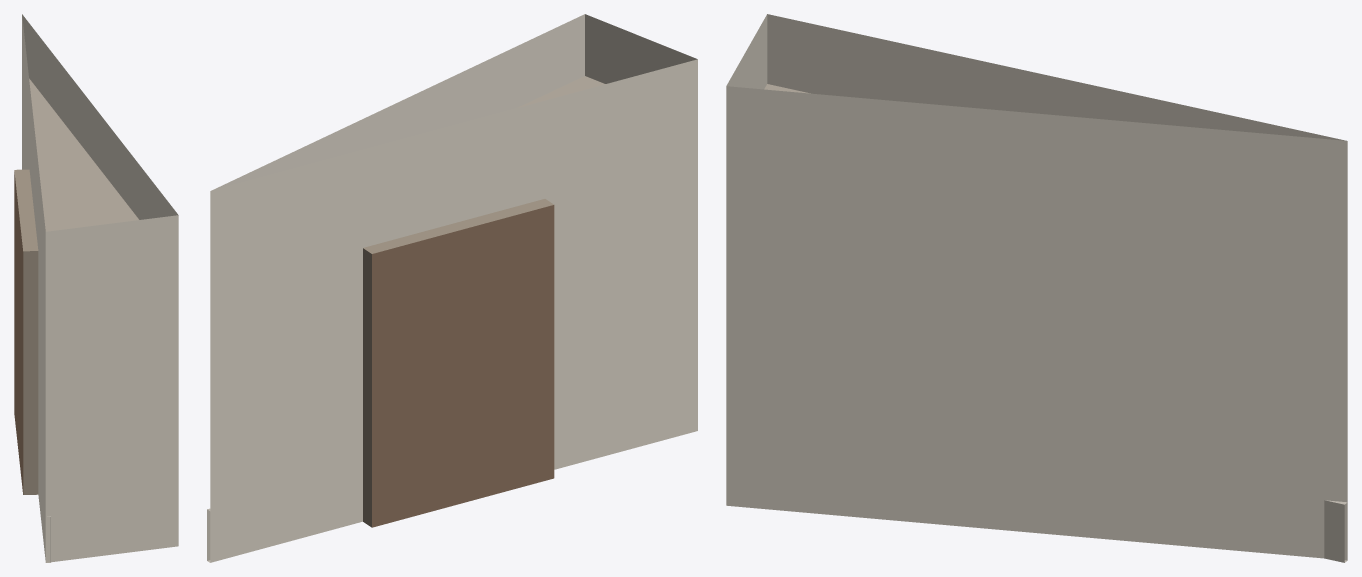
3 renders of one model, left to right at view 1: azimuth 30°, elevation 25°; view 2: azimuth 150°, elevation 25°; view 3: azimuth 270°, elevation 25°, orthographic. The views are drawn at different scales.
Visible parts, largest first — view 1: W-32#2; view 2: W-32#2; view 3: W-32#2.
Part boxes in pixels (x1=…): W-32#2: x1=14, y1=14, x2=178, y2=562; W-32#2: x1=207, y1=14, x2=697, y2=562; W-32#2: x1=726, y1=14, x2=1347, y2=562.
Bounding box in the file's own units: 2.38 × 3.6 × 4.83.
